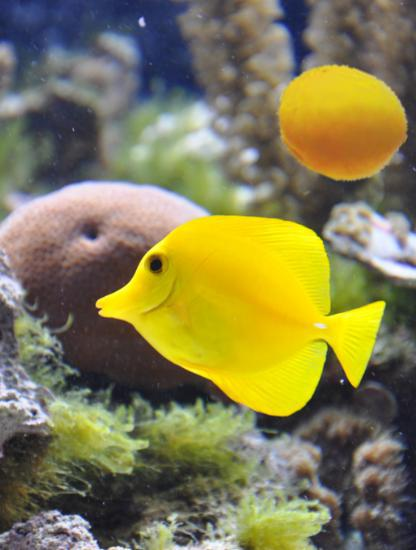Peach: (275, 56, 409, 190)
